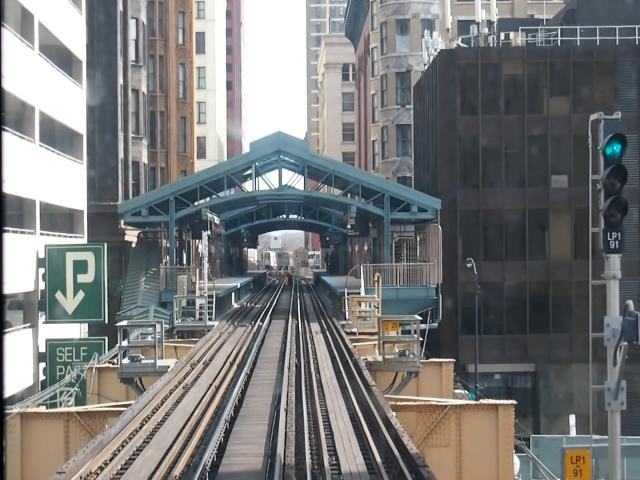signal light: (598, 115, 634, 258)
